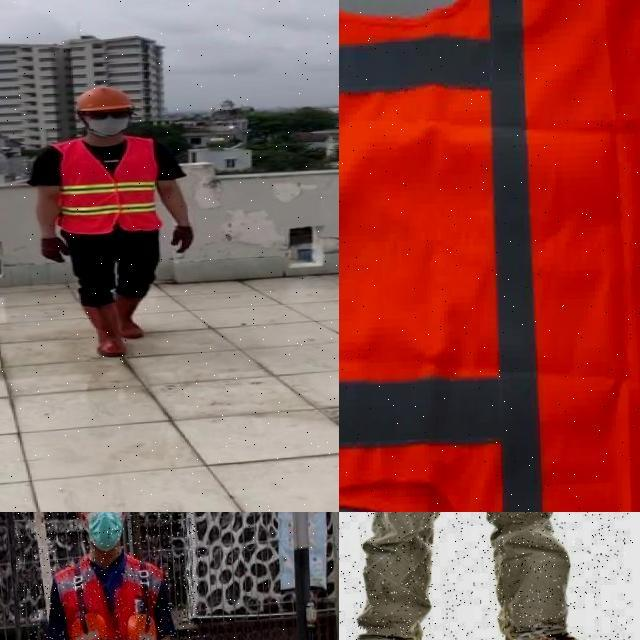boots: (76, 300, 126, 358), (111, 292, 142, 338), (499, 629, 612, 640)
helmet: (73, 82, 132, 112)
vest: (339, 0, 640, 512), (50, 136, 165, 234), (53, 549, 170, 640)
